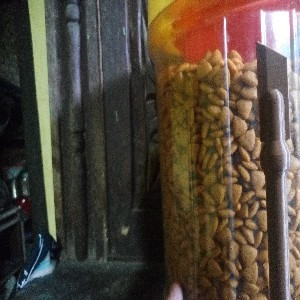cutter: (253, 39, 293, 300)
